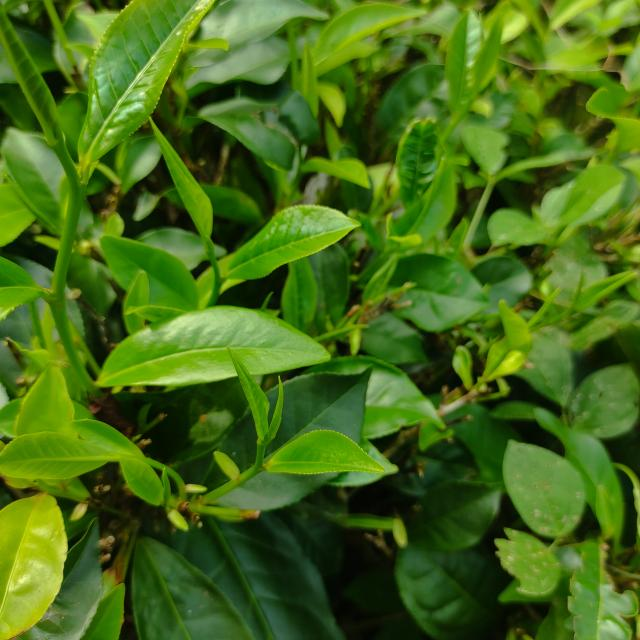unopened_leaf: (0, 0, 78, 179), (340, 273, 425, 333), (258, 366, 290, 459), (564, 261, 596, 325), (523, 281, 563, 330), (158, 460, 181, 515), (472, 6, 492, 51)
